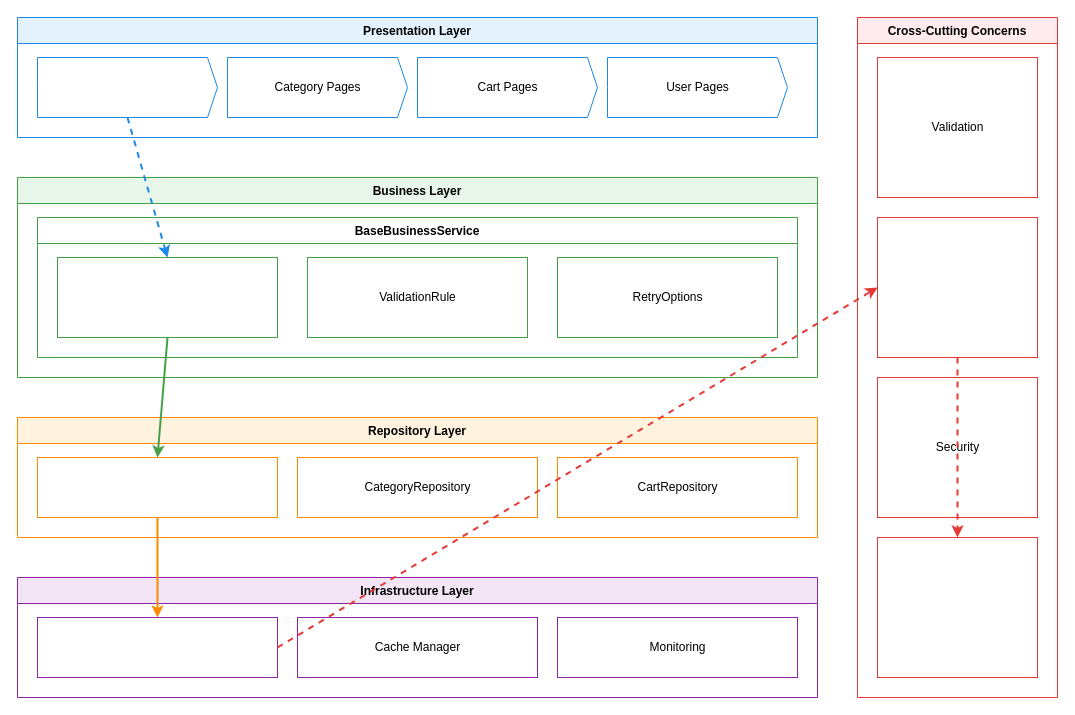
Some shapes in this 1075 by 715 pixel diagram are drawn without their labels. Each missing label, with the centre of its shape:
"BusinessOperation" goes at (x=167, y=297).
"Error Handling" goes at (x=957, y=287).
"HTTP Client" goes at (x=157, y=647).
"Logging" goes at (x=957, y=607).
"Product Pages" goes at (x=127, y=87).
"ProductRepository" goes at (x=157, y=487).
